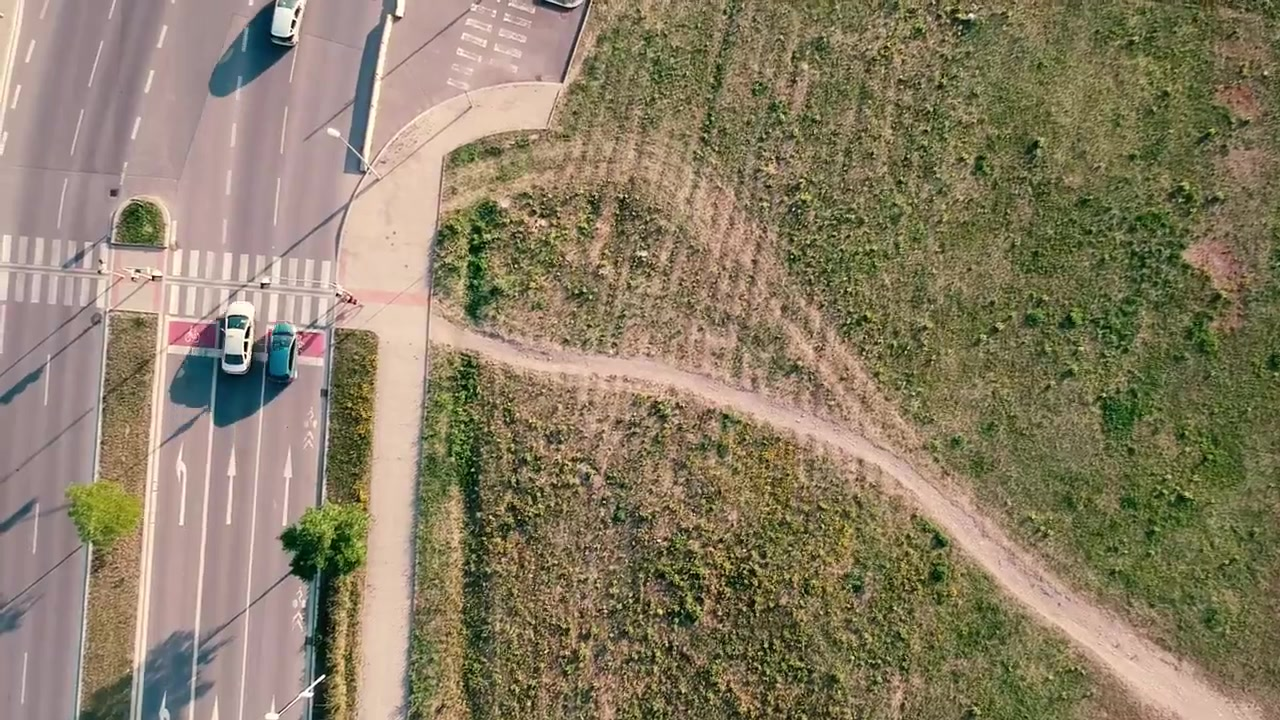car: (220, 298, 259, 375), (262, 318, 296, 382), (269, 1, 311, 51)
